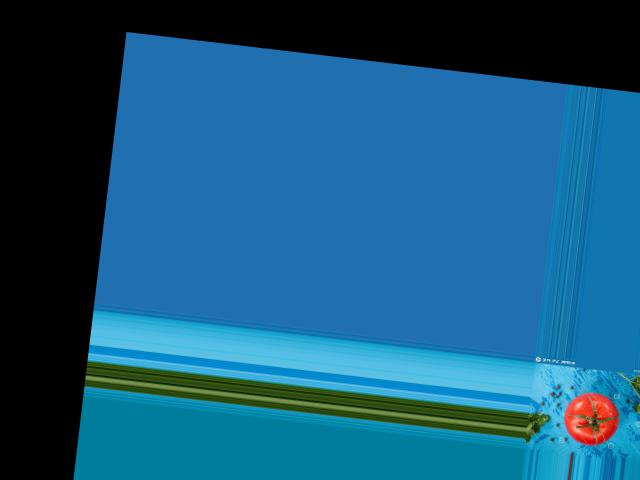tomato: (562, 389, 622, 448)
